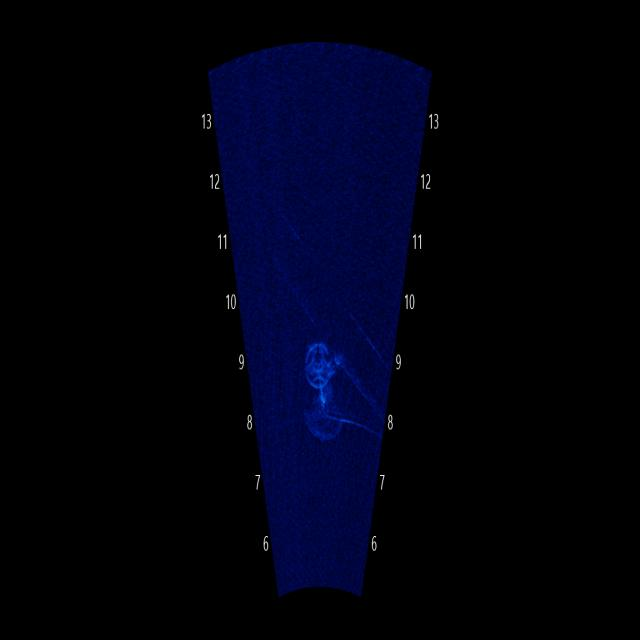circle: (300, 314, 341, 402)
